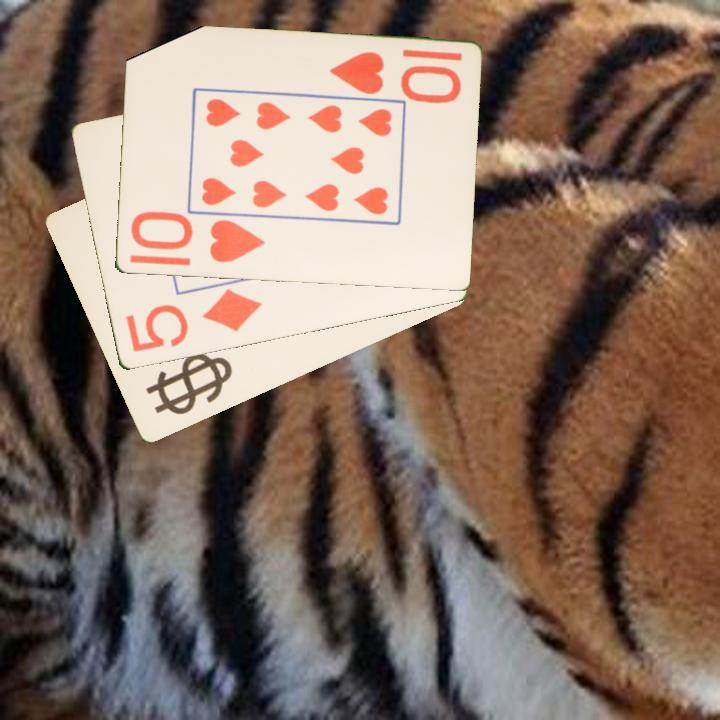10h: (126, 212, 268, 266), (325, 49, 464, 102)
5d: (122, 286, 265, 356)
JK: (158, 359, 229, 413)
